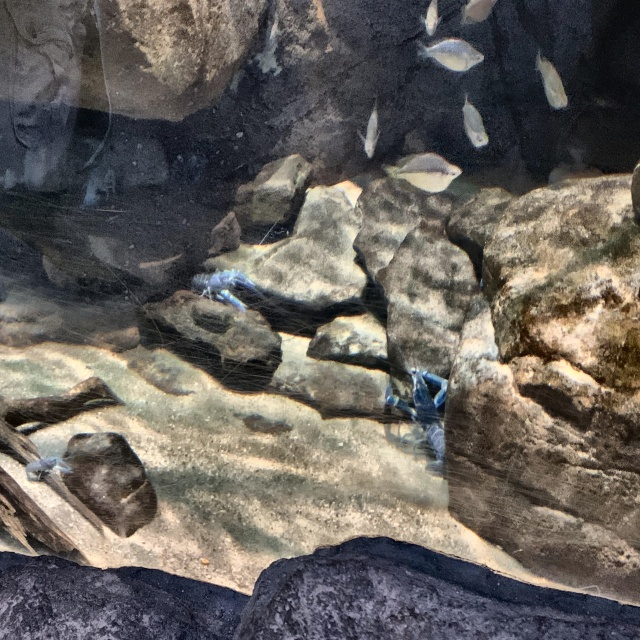fish: (385, 148, 463, 196), (417, 38, 484, 74), (535, 48, 569, 112), (462, 93, 491, 150), (358, 100, 383, 160), (460, 0, 497, 29), (420, 0, 444, 38)
